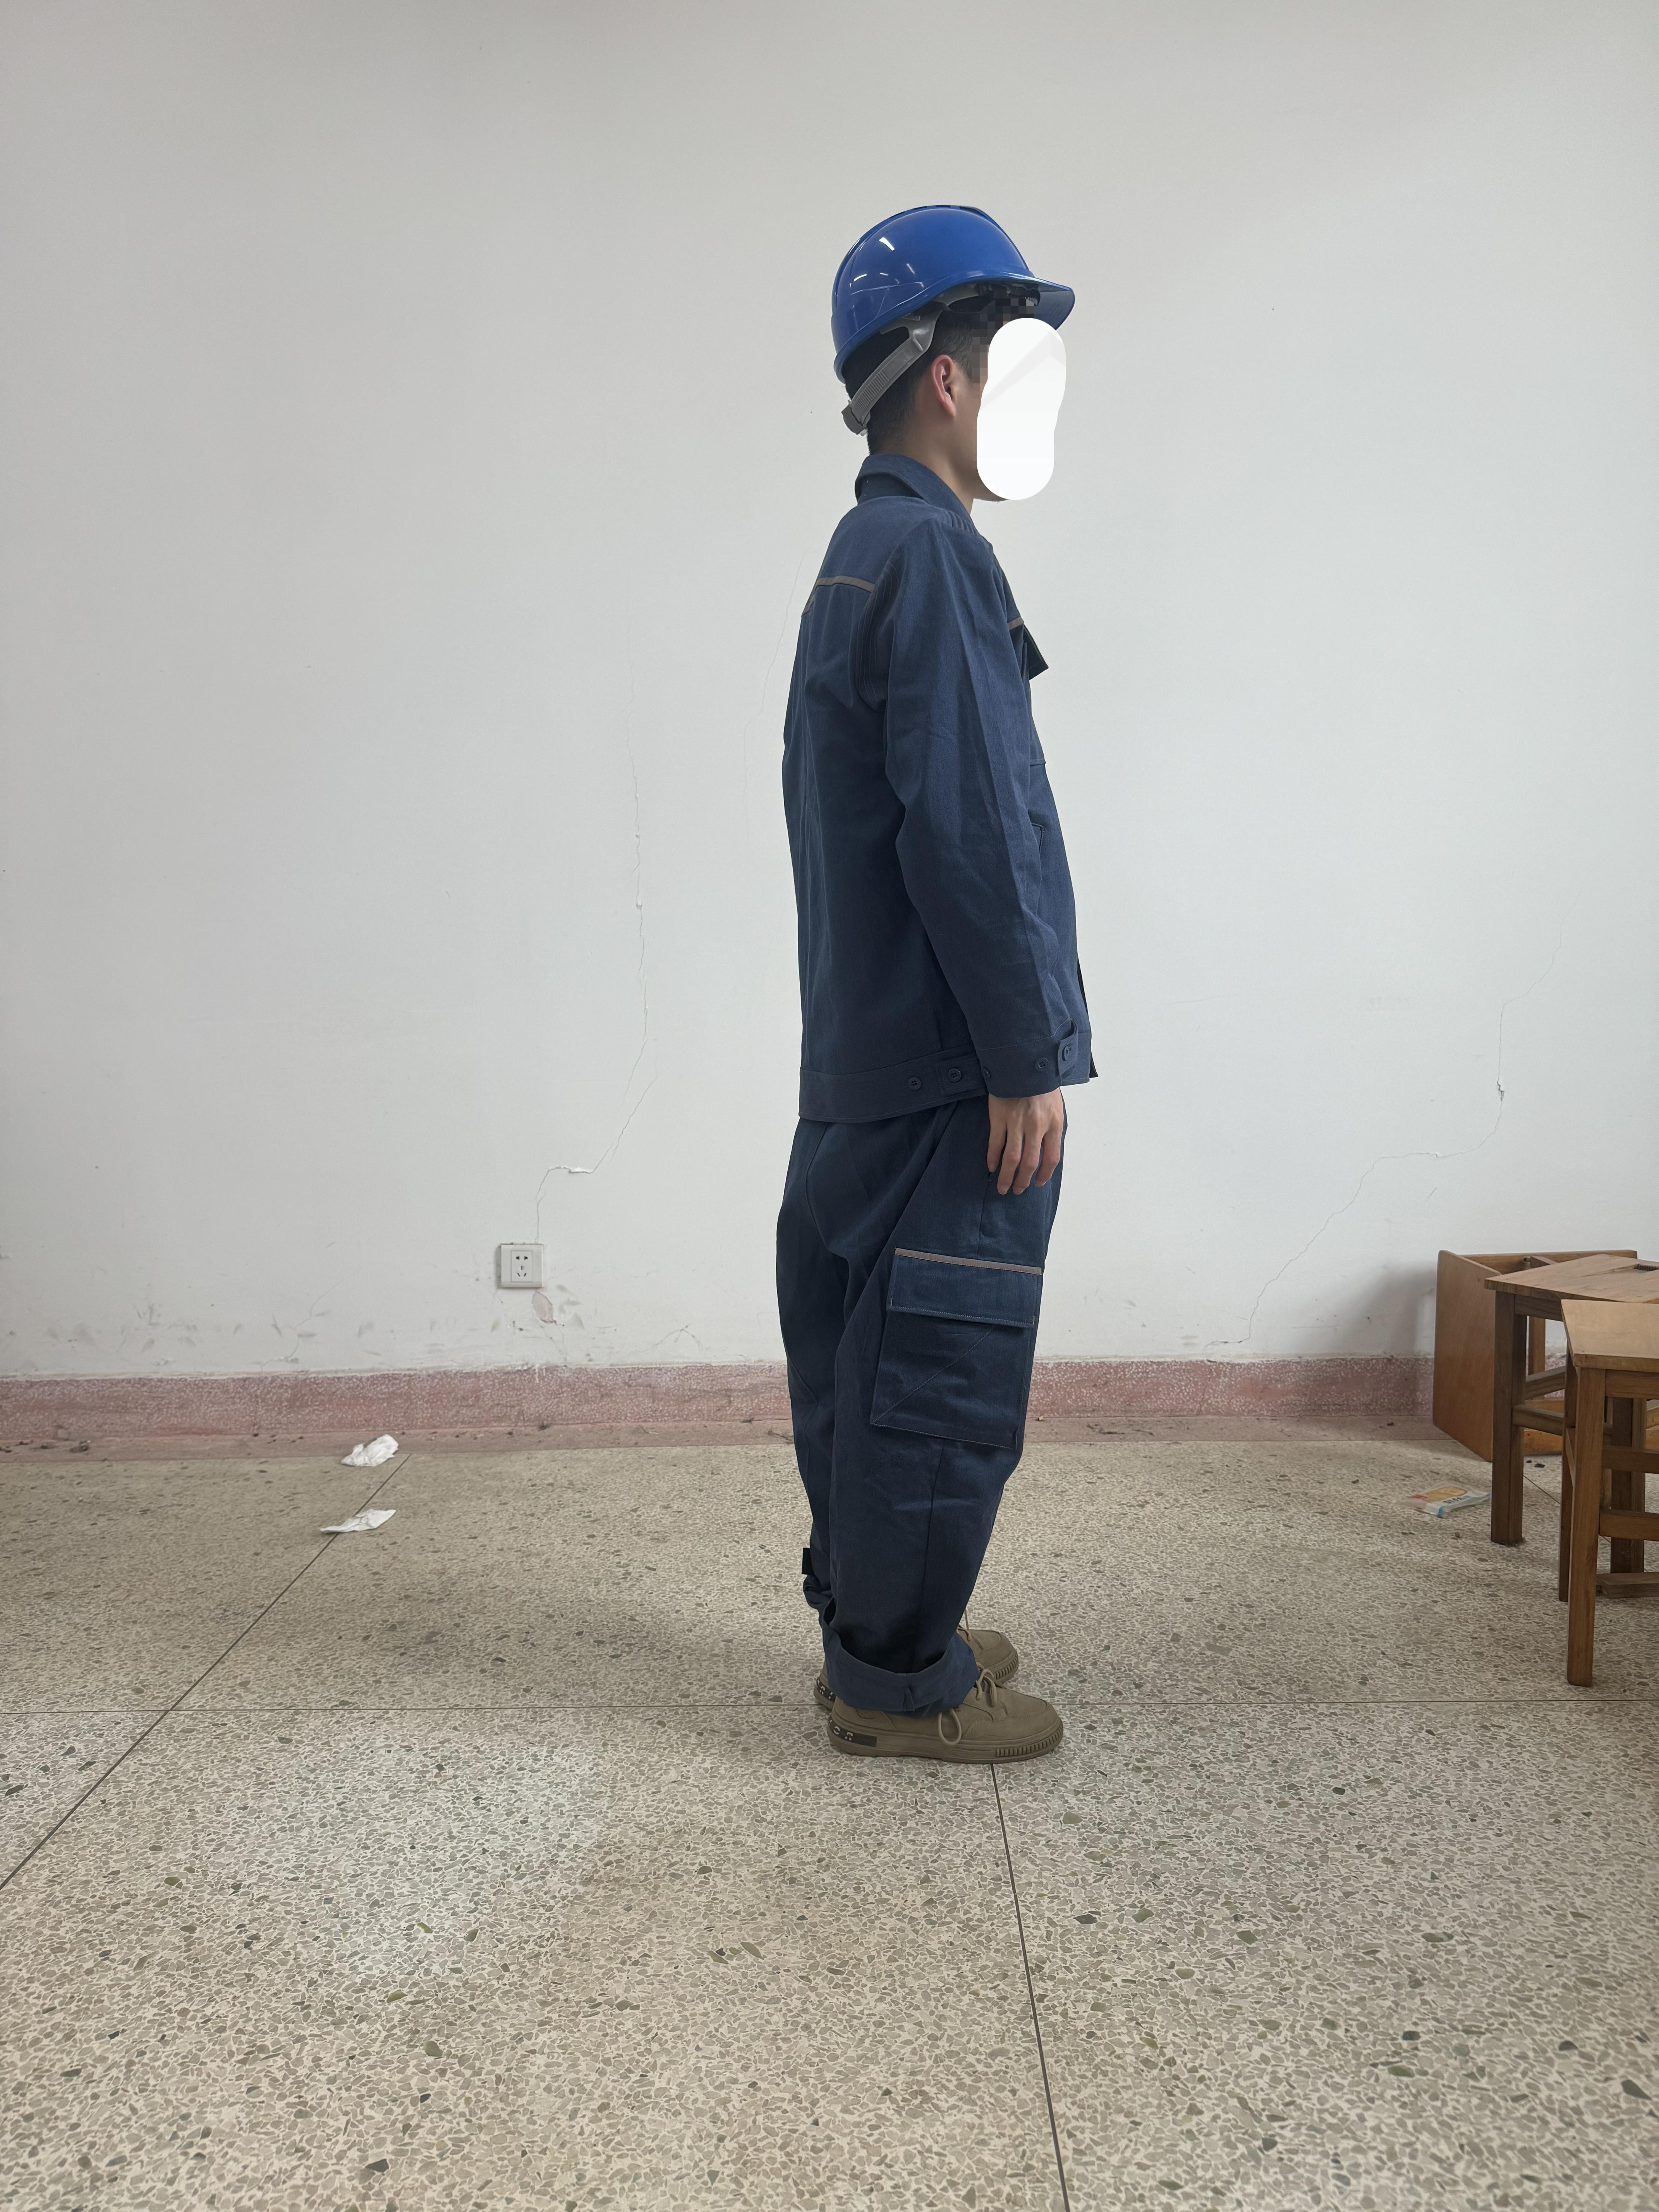halt: (819, 202, 1082, 512)
noear: (901, 315, 990, 444)
